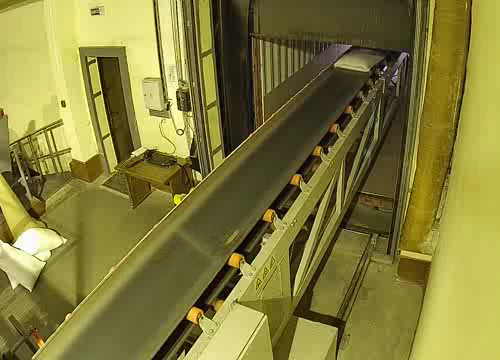bag: (333, 48, 390, 76)
